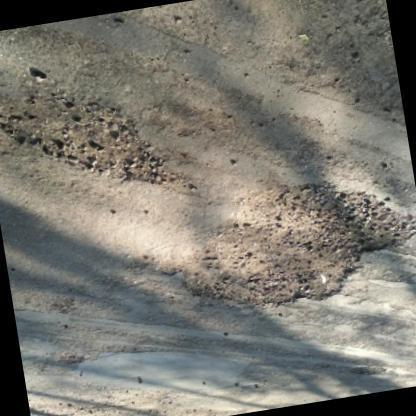pothole: (166, 182, 416, 307), (3, 88, 164, 182)
